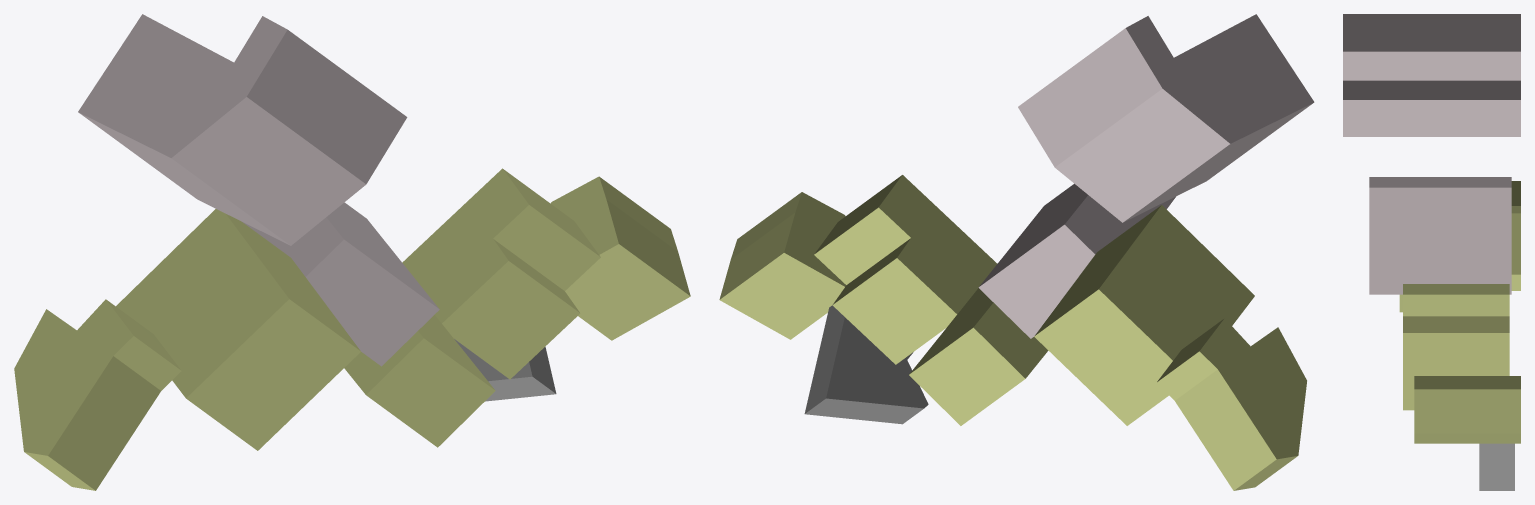
3 renders of one model, left to right at view 1: azimuth 30°, elevation 25°; view 2: azimuth 150°, elevation 25°; view 3: azimuth 270°, elevation 25°, orthographic. The views are drawn at different scales.
Visible parts, largest first — view 1: 0_1_3_2_2_1_2_1_2; view 2: 0_1_3_2_2_1_2_1_2; view 3: 0_1_3_2_2_1_2_1_2.
Boxes of the visible parts, x1=… form: 0_1_3_2_2_1_2_1_2: x1=14, y1=14, x2=690, y2=490; 0_1_3_2_2_1_2_1_2: x1=719, y1=14, x2=1314, y2=490; 0_1_3_2_2_1_2_1_2: x1=1343, y1=14, x2=1520, y2=490.
Size of the model in its own units: 43.74 by 31.37 by 15.
